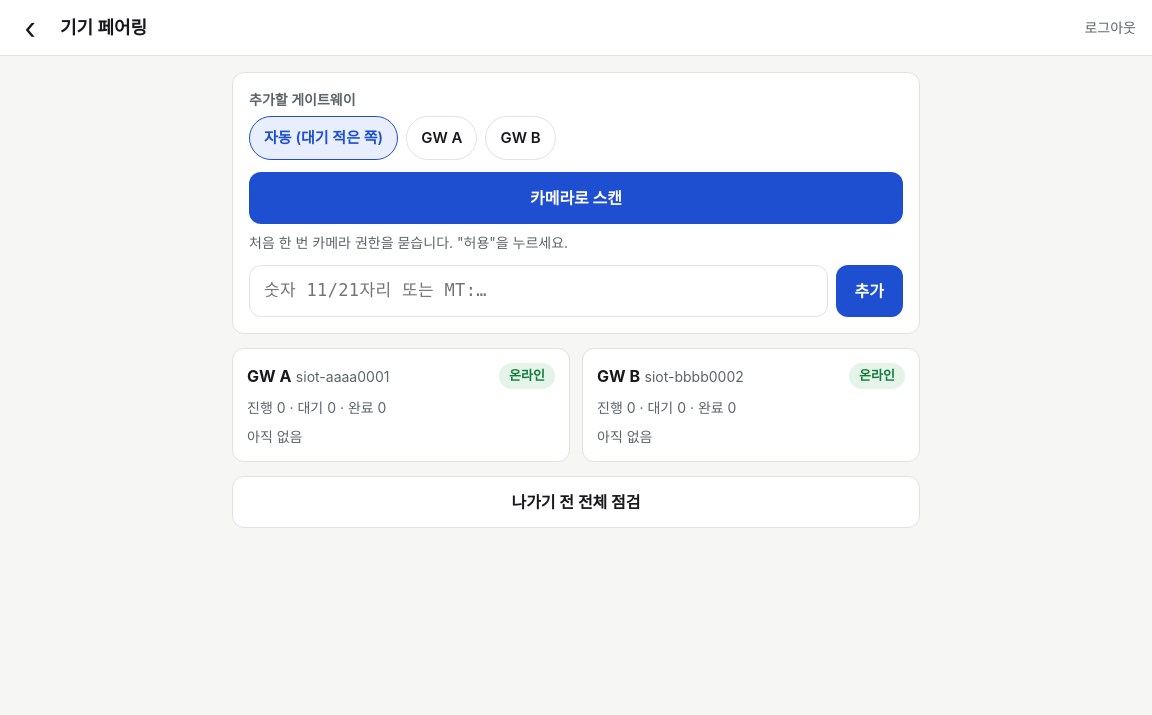
페어링 큐 (GW 별 직렬·GW 끼리 병렬, E2) › 실패 ATTESTATION_REJECTED → "인증 거부" + 재시도는 같은 GW 에 같은 코드로 다시 넣는다
This screenshot has width=1152, height=715.
Expected: the element named "GW A 대기열" is shown, [232,348,570,462]
Type "MT:Y.K9042C00KA0648G00" into the field named "기기 코드".
click(538, 291); type("MT:Y.K9042C00KA0648G00")  # box [249,265,828,317]
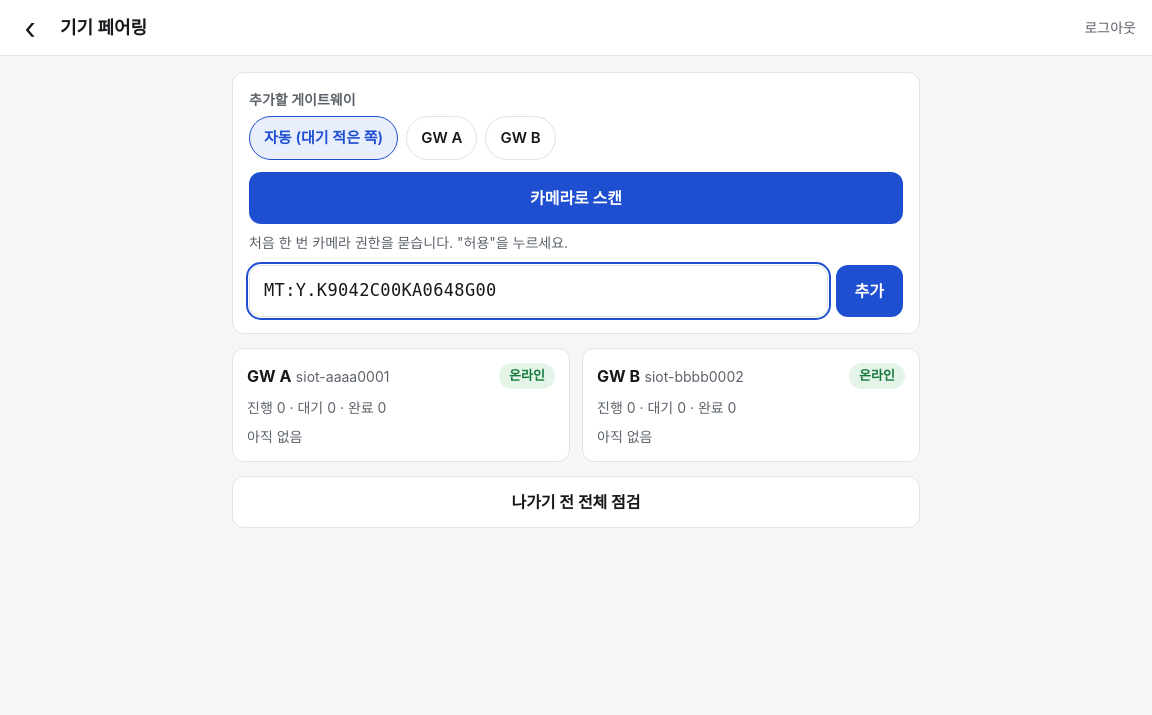
Click the button "추가".
click(869, 291)  # box [836,265,903,317]
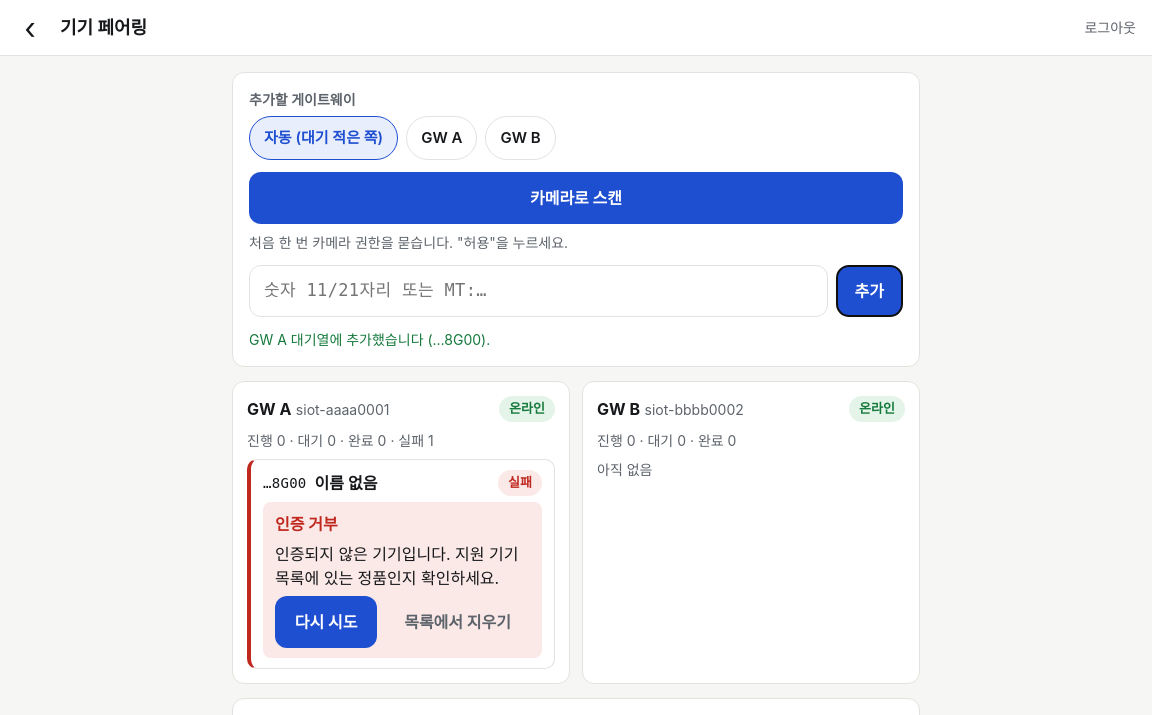
Result: the text "GW A 대기열에 추가했습니다 (…8G00)." is shown at [249,331,490,348]
Result: the message "인증 거부 인증되지 않은 기기입니다. 지원 기기 목록에 있는 정품인지 확인하세요. 다시 시도 목록에서 지우기" is shown at [263,502,542,658]
Click the button "다시 시도".
click(326, 622)  # box [275,596,377,648]
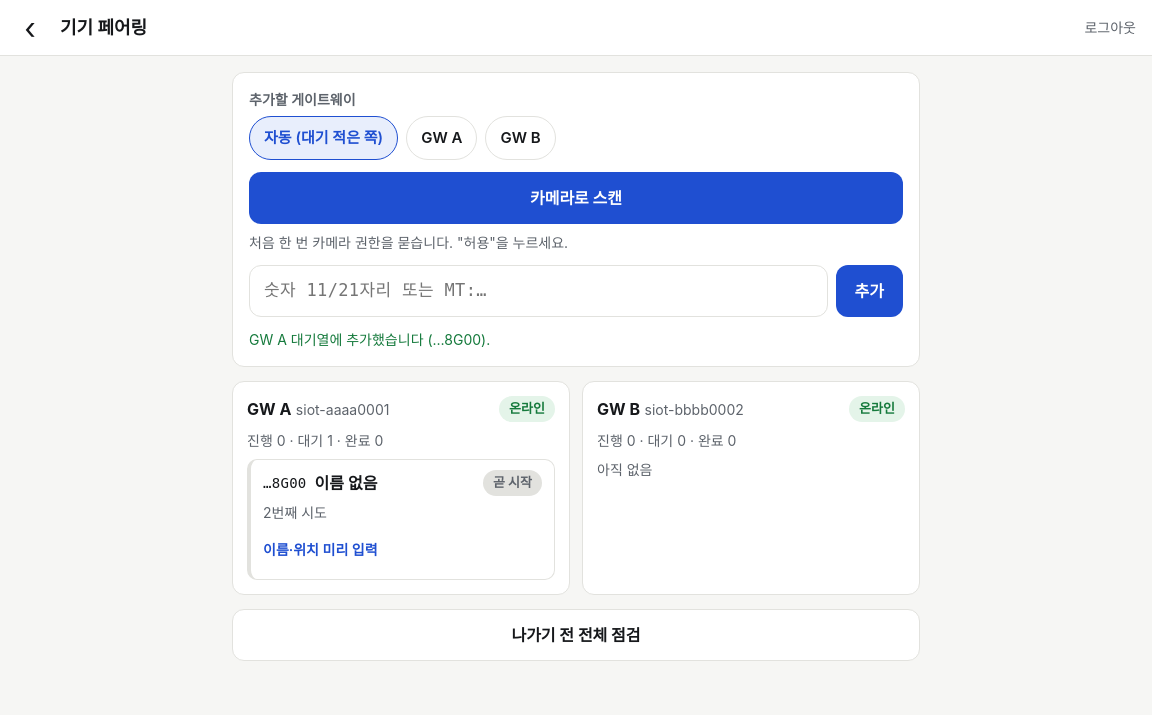
Result: the text "2번째 시도" is shown at [263,504,327,521]
